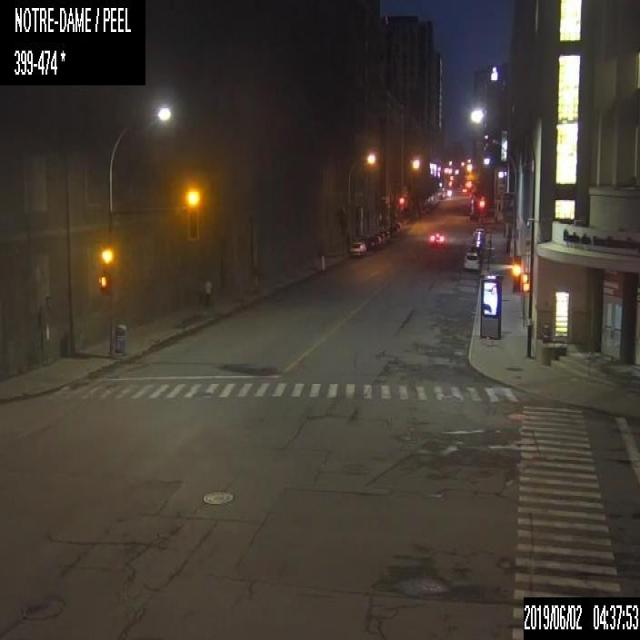construction: (319, 255, 325, 272)
pedestrian: (203, 276, 210, 307)
vehicle: (426, 230, 446, 247), (463, 251, 480, 270), (348, 238, 366, 254), (368, 234, 381, 247), (472, 240, 484, 251), (472, 234, 484, 242), (472, 227, 485, 234)
